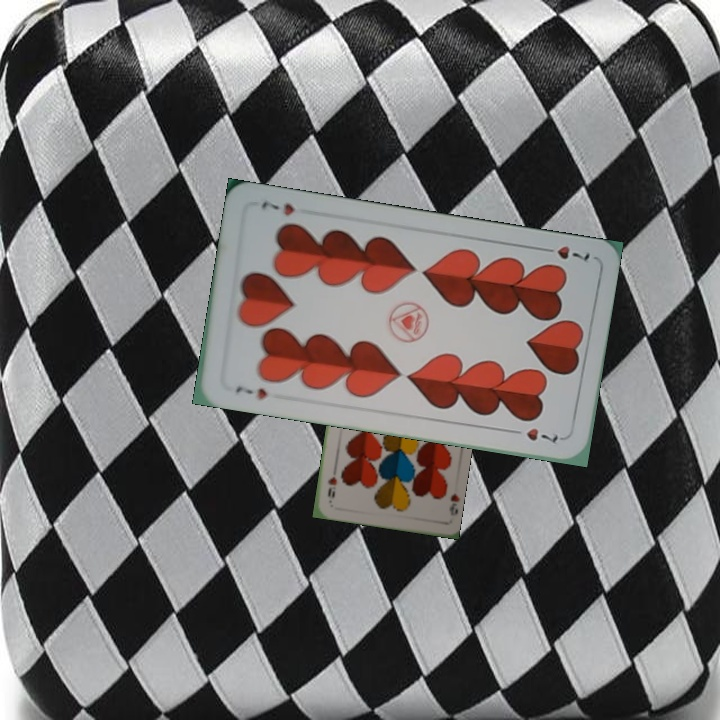H7: (536, 242, 593, 263), (231, 381, 270, 402)
H9: (445, 489, 460, 518)
